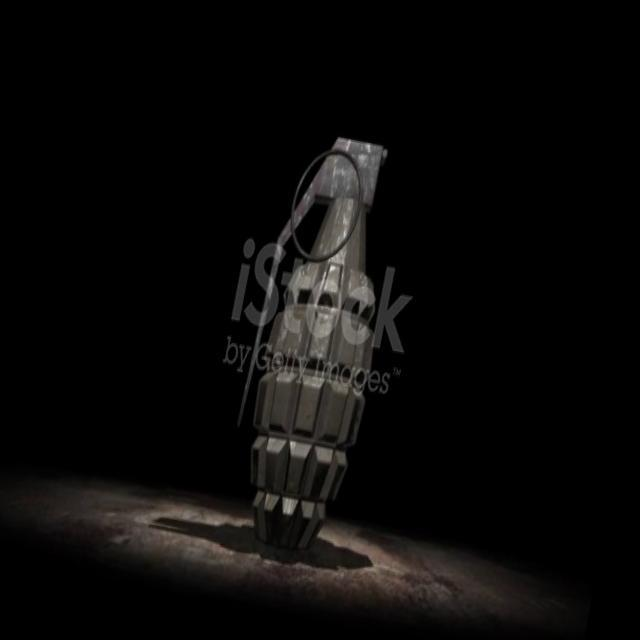grenade: (212, 118, 416, 567)
